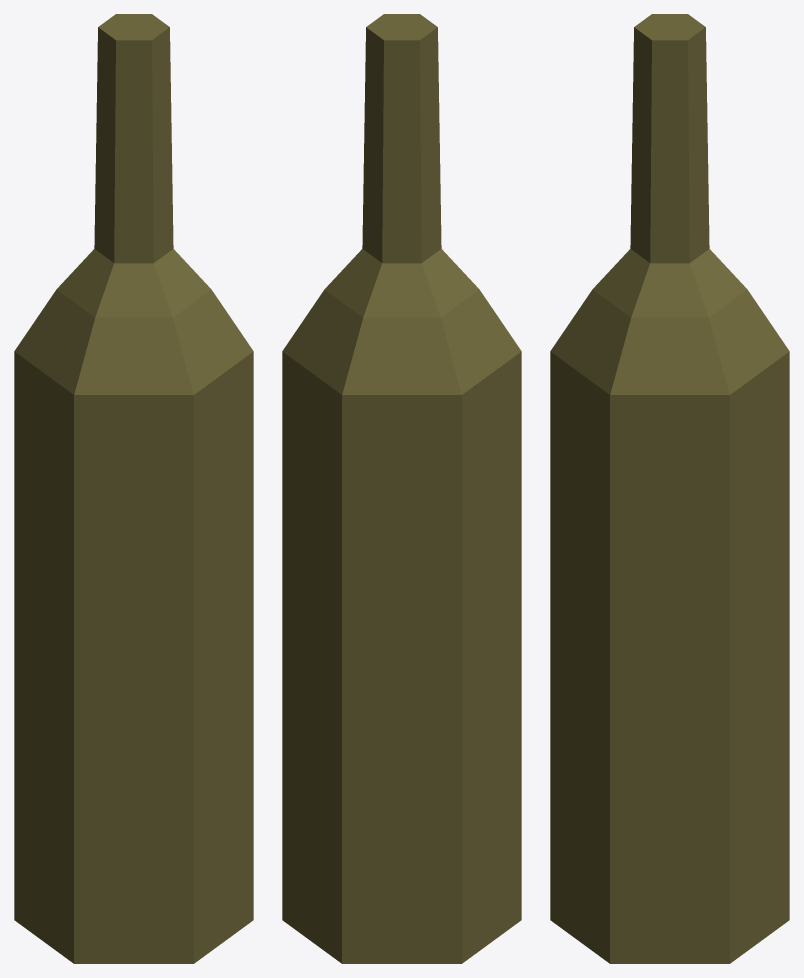
Rendered from bottle1.fbx.
3 views of the same model, side by side, from view 1: azimuth 30°, elevation 25°; view 2: azimuth 150°, elevation 25°; view 3: azimuth 270°, elevation 25° (orthographic).
Visible parts, largest first — view 1: Cylinder, Cylinder_cell, Cylinder_cell.003, Cylinder_cell.008, Cylinder_cell.002, Cylinder_cell.004, Cylinder_cell.005, Cylinder_cell.001, Cylinder_cell.007; view 2: Cylinder, Cylinder_cell.002, Cylinder_cell.003, Cylinder_cell.006, Cylinder_cell.007, Cylinder_cell.001, Cylinder_cell.005, Cylinder_cell.004, Cylinder_cell.008; view 3: Cylinder, Cylinder_cell.006, Cylinder_cell.003, Cylinder_cell, Cylinder_cell.008, Cylinder_cell.001, Cylinder_cell.009, Cylinder_cell.007, Cylinder_cell.004, Cylinder_cell.005.
Part boxes in pixels (x1,y1,x2,y2): Cylinder: [14, 14, 253, 963]; Cylinder_cell: [75, 320, 252, 698]; Cylinder_cell.003: [14, 627, 253, 963]; Cylinder_cell.008: [83, 139, 191, 327]; Cylinder_cell.002: [14, 292, 91, 542]; Cylinder_cell.004: [135, 14, 170, 150]; Cylinder_cell.005: [96, 28, 132, 156]; Cylinder_cell.001: [86, 147, 105, 283]; Cylinder_cell.007: [60, 259, 85, 299]; Cylinder: [282, 20, 521, 963]; Cylinder_cell.002: [343, 297, 521, 719]; Cylinder_cell.003: [282, 648, 521, 963]; Cylinder_cell.006: [282, 299, 341, 698]; Cylinder_cell.007: [323, 276, 458, 444]; Cylinder_cell.001: [319, 137, 447, 302]; Cylinder_cell.005: [374, 27, 439, 158]; Cylinder_cell.004: [364, 14, 427, 136]; Cylinder_cell.008: [432, 251, 484, 297]; Cylinder: [550, 14, 789, 963]; Cylinder_cell.006: [611, 328, 789, 683]; Cylinder_cell.003: [550, 647, 789, 963]; Cylinder_cell: [550, 292, 609, 667]; Cylinder_cell.008: [597, 140, 669, 298]; Cylinder_cell.001: [670, 140, 718, 329]; Cylinder_cell.009: [593, 291, 697, 442]; Cylinder_cell.007: [719, 259, 789, 400]; Cylinder_cell.004: [632, 21, 697, 150]; Cylinder_cell.005: [659, 18, 707, 139].
Size of the model in its own units: 20.73 by 85.34 by 17.95.
